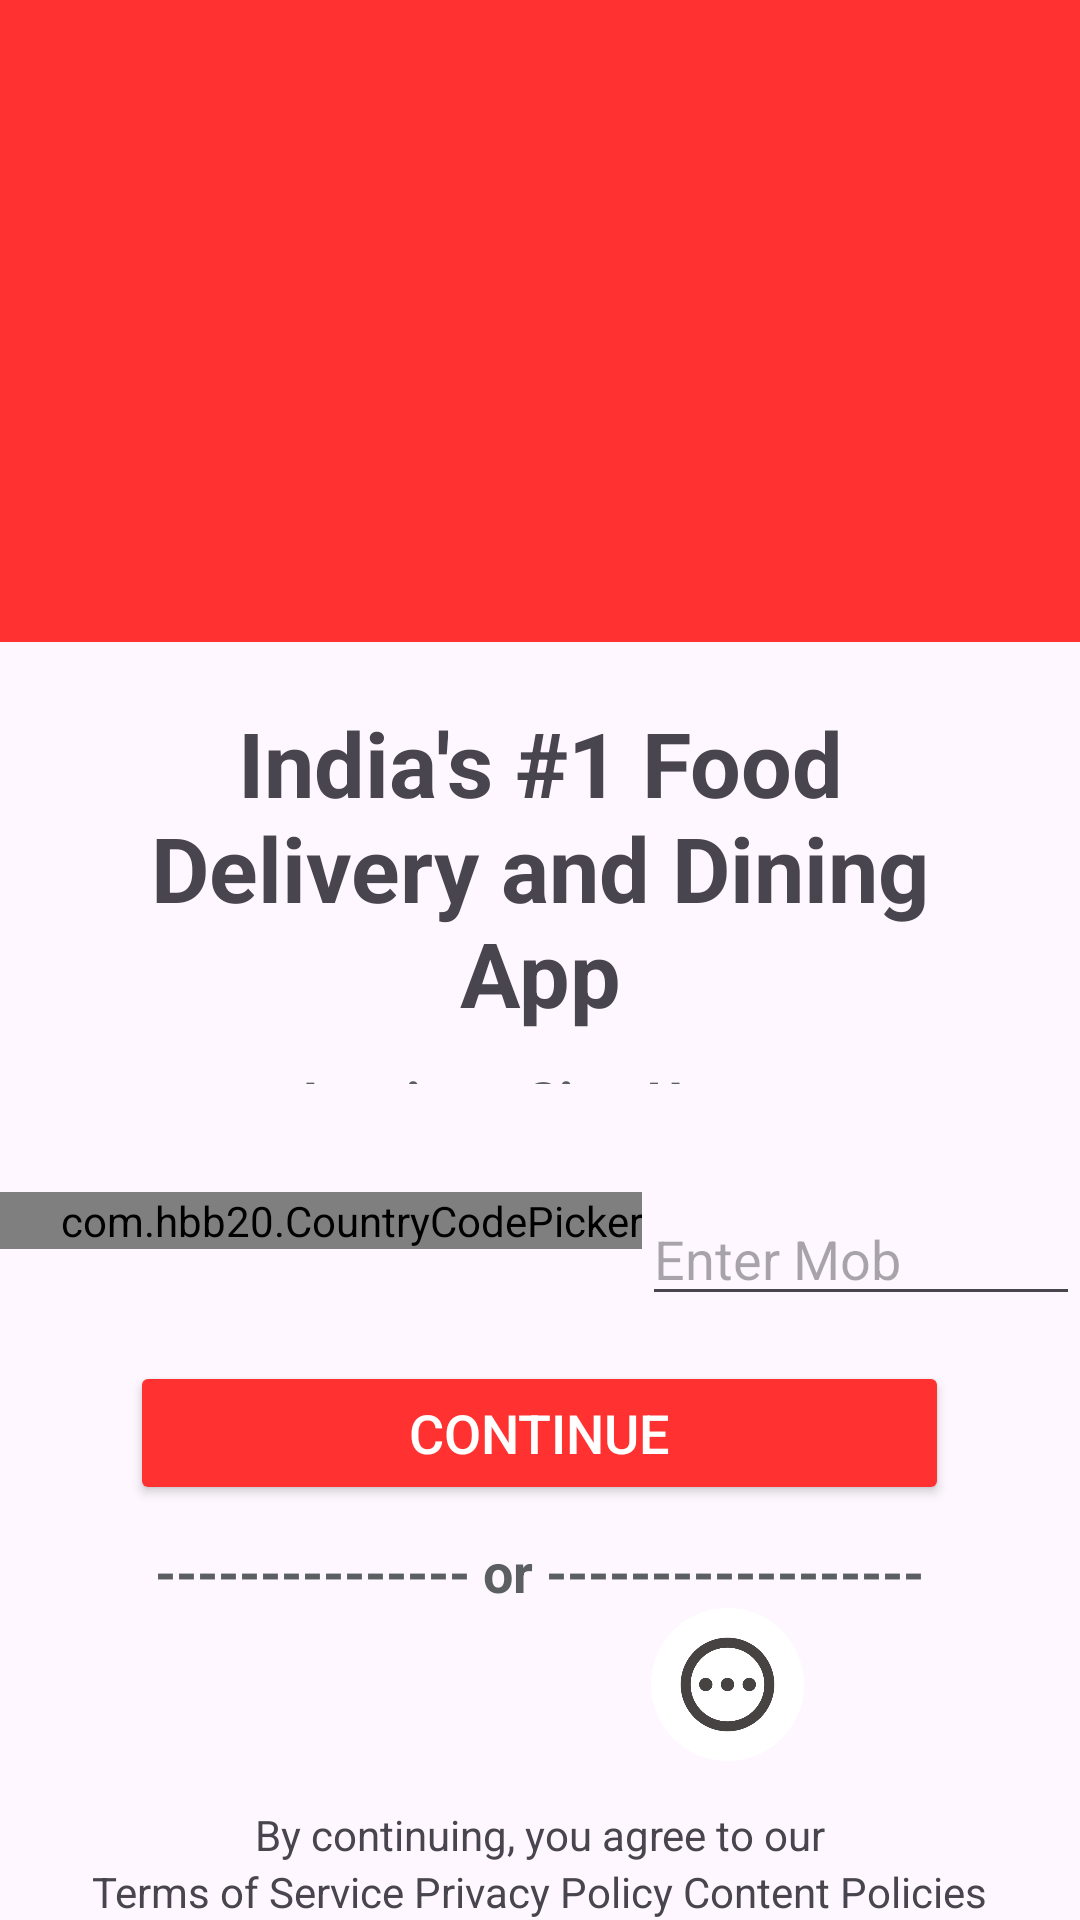

Named icons in this screenshot (1080×1920) and their centers, (x,y):
threedots: (727,1684)
